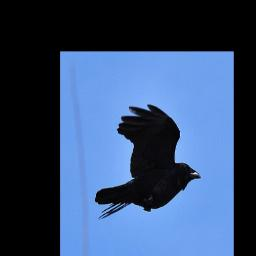Crow: (94, 104, 201, 222)
